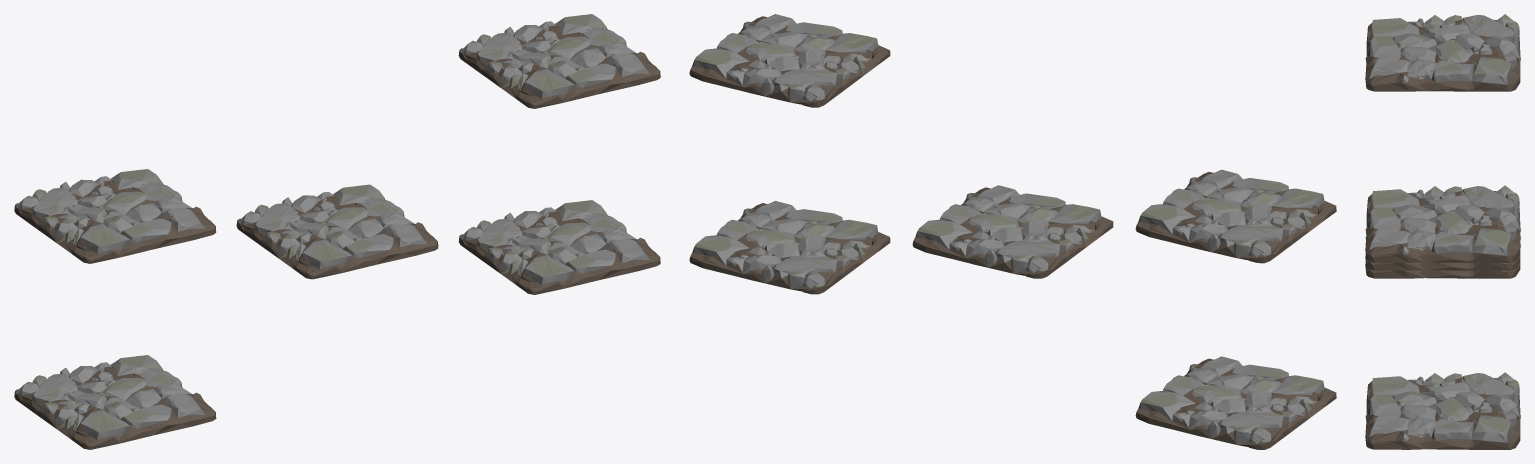
Rendered from stage_1.fbx.
The picture shows the model from 3 angles, left to right: view 1: azimuth 30°, elevation 25°; view 2: azimuth 150°, elevation 25°; view 3: azimuth 270°, elevation 25°; orthographic projection.
Visible parts, largest first — view 1: Mesh; view 2: Mesh; view 3: Mesh.
Boxes of the visible parts, <box> form: Mesh: <box>14,14,660,449</box>; Mesh: <box>689,14,1336,449</box>; Mesh: <box>1365,14,1520,449</box>.
Bounding box in the file's own units: 1300 × 539 × 301.
Materials: 1 (1 with a texture image).
